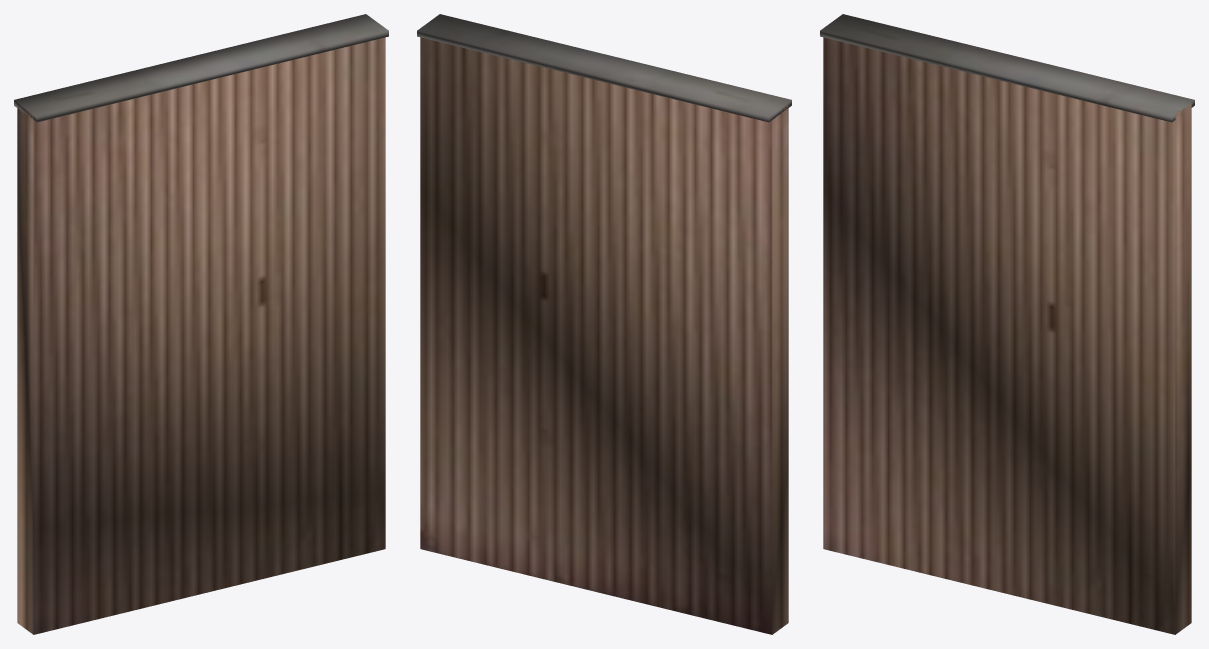
Rendered from Wall_4.glb.
3 views of the same model, side by side, from view 1: azimuth 30°, elevation 25°; view 2: azimuth 150°, elevation 25°; view 3: azimuth 330°, elevation 25° (orthographic).
Visible parts, largest first — view 1: Wall_4; view 2: Wall_4; view 3: Wall_4.
Boxes of the visible parts, <box> form: Wall_4: <box>14,14,388,634</box>; Wall_4: <box>417,14,791,634</box>; Wall_4: <box>820,14,1194,634</box>.
Size of the model in its own units: 5.2 by 7.34 by 0.5838.
1 material, 1 textured.
